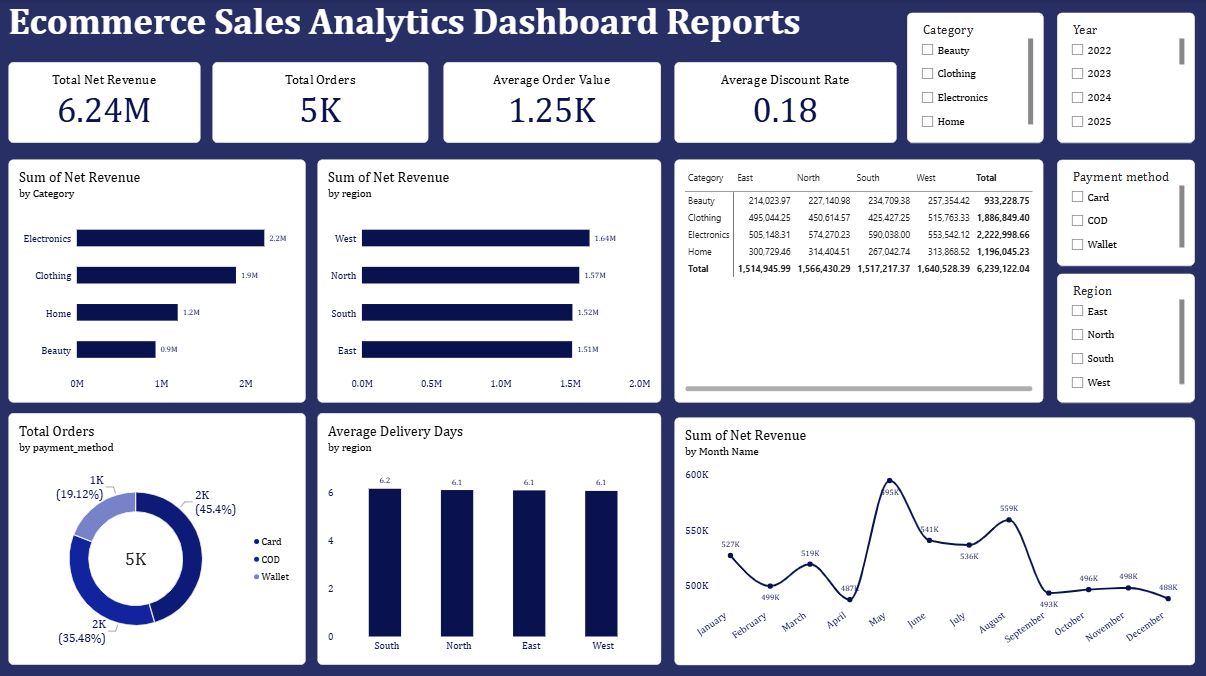

This screenshot's page, from the dashboard's own definition file:
{"tool":"powerbi","page":{"name":"Sales Overview","canvas":[1920,1080],"ordinal":1},"visuals":[{"type":"textbox","box":[16.7,0,1278.9,119.3],"z":0},{"type":"cardVisual","fields":{"Data":["DateTable.Total Net Revenue"]},"box":[16.7,100.2,305.4,128.8],"z":1000},{"type":"cardVisual","fields":{"Data":["DateTable.Total Orders"]},"box":[341.2,100.2,343.6,128.8],"z":2000},{"type":"cardVisual","fields":{"Data":["DateTable.Average Order Value"]},"box":[708.6,100.2,346,128.8],"z":3000},{"type":"cardVisual","fields":{"Data":["DateTable.Average Discount Rate"]},"box":[1076,100.2,353.1,128.8],"z":4000},{"type":"clusteredBarChart","fields":{"Category":["Ecommerce Sales Analytics.Category"],"Y":["Sum(Ecommerce Sales Analytics.Net Revenue)"]},"box":[16.7,255.3,472.4,386.5],"z":5000},{"type":"barChart","fields":{"Category":["Ecommerce Sales Analytics.region"],"Y":["Sum(Ecommerce Sales Analytics.Net Revenue)"]},"box":[508.2,255.3,546.4,386.5],"z":6000},{"type":"lineChart","fields":{"Category":["DateTable.Month Name"],"Y":["Sum(Ecommerce Sales Analytics.Net Revenue)"]},"box":[1076,665.7,827.9,393.7],"z":7000},{"type":"donutChart","fields":{"Category":["Ecommerce Sales Analytics.payment_method"],"Y":["DateTable.Total Orders"]},"box":[16.7,658.5,472.4,400.8],"z":8000},{"type":"clusteredColumnChart","fields":{"Category":["Ecommerce Sales Analytics.region"],"Y":["DateTable.Average Delivery Days"]},"box":[508.2,658.5,546.4,400.8],"z":9000},{"type":"pivotTable","fields":{"Columns":["Ecommerce Sales Analytics.region"],"Rows":["Ecommerce Sales Analytics.Category"],"Values":["Sum(Ecommerce Sales Analytics.Net Revenue)"]},"box":[1076,255.3,586.9,386.5],"z":10000},{"type":"slicer","fields":{"Values":["DateTable.Year"]},"box":[1684.5,21.5,219.5,207.6],"z":11000},{"type":"slicer","fields":{"Values":["Ecommerce Sales Analytics.Category"]},"box":[1445.9,21.5,217.1,207.6],"z":12000},{"type":"slicer","fields":{"Values":["Ecommerce Sales Analytics.region"]},"box":[1684.5,436.6,219.5,205.2],"z":13000},{"type":"slicer","fields":{"Values":["Ecommerce Sales Analytics.payment_method"]},"box":[1684.5,255.3,219.5,169.4],"z":14000}]}

Visuals, with their boxes in screenshot pixels (x1, y1, x2, y2), scaled from the page's 1920x1080 canvas onto the 1206x676 screenshot:
textbox: box=[10, 0, 814, 75]
cardVisual - DateTable.Total Net Revenue: box=[10, 63, 202, 143]
cardVisual - DateTable.Total Orders: box=[214, 63, 430, 143]
cardVisual - DateTable.Average Order Value: box=[445, 63, 662, 143]
cardVisual - DateTable.Average Discount Rate: box=[676, 63, 898, 143]
clusteredBarChart - Ecommerce Sales Analytics.Category x Sum(Ecommerce Sales Analytics.Net Revenue): box=[10, 160, 307, 402]
barChart - Ecommerce Sales Analytics.region x Sum(Ecommerce Sales Analytics.Net Revenue): box=[319, 160, 662, 402]
lineChart - DateTable.Month Name x Sum(Ecommerce Sales Analytics.Net Revenue): box=[676, 417, 1196, 663]
donutChart - Ecommerce Sales Analytics.payment_method x DateTable.Total Orders: box=[10, 412, 307, 663]
clusteredColumnChart - Ecommerce Sales Analytics.region x DateTable.Average Delivery Days: box=[319, 412, 662, 663]
pivotTable - Ecommerce Sales Analytics.region x Ecommerce Sales Analytics.Category: box=[676, 160, 1045, 402]
slicer - DateTable.Year: box=[1058, 13, 1196, 143]
slicer - Ecommerce Sales Analytics.Category: box=[908, 13, 1045, 143]
slicer - Ecommerce Sales Analytics.region: box=[1058, 273, 1196, 402]
slicer - Ecommerce Sales Analytics.payment_method: box=[1058, 160, 1196, 266]
